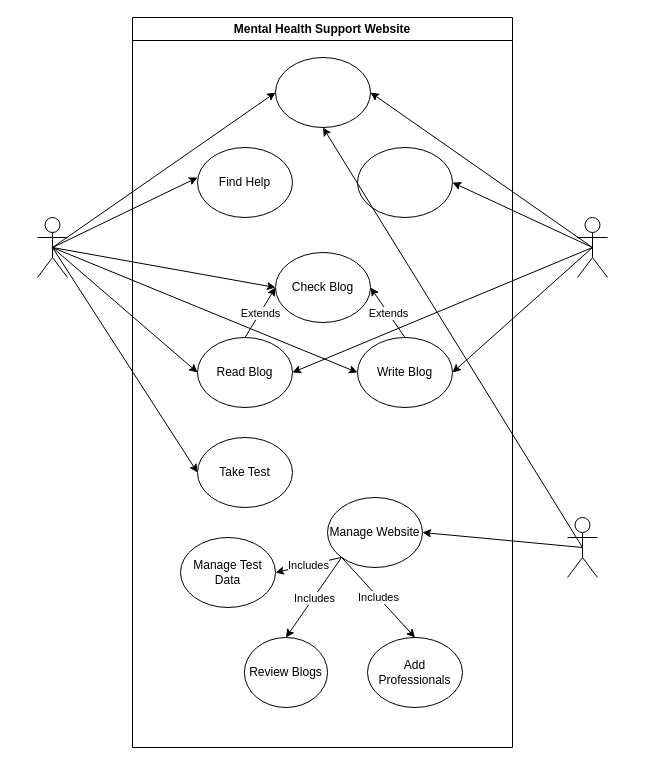
This 657x765 diagram has some shape labels left out. The centre of each missing label's shape, as x and y in pixels:
Administrator: the point at 582,547
General User: the point at 52,247
Login: the point at 322,92
Professional User: the point at 592,247
Provide Help: the point at 404,182
